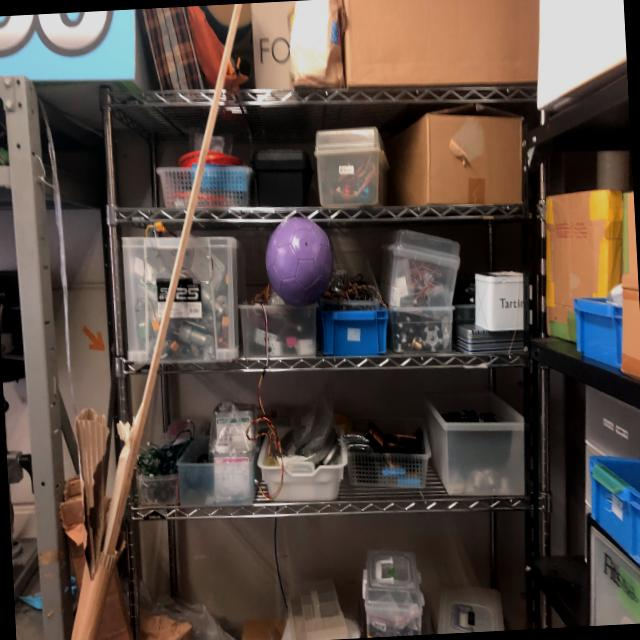purple_ball: (262, 218, 336, 308)
